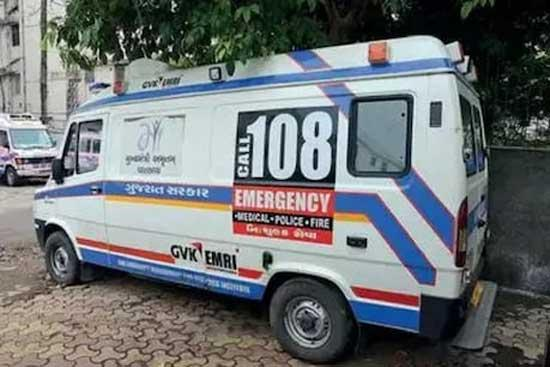ER: (31, 34, 497, 355)
